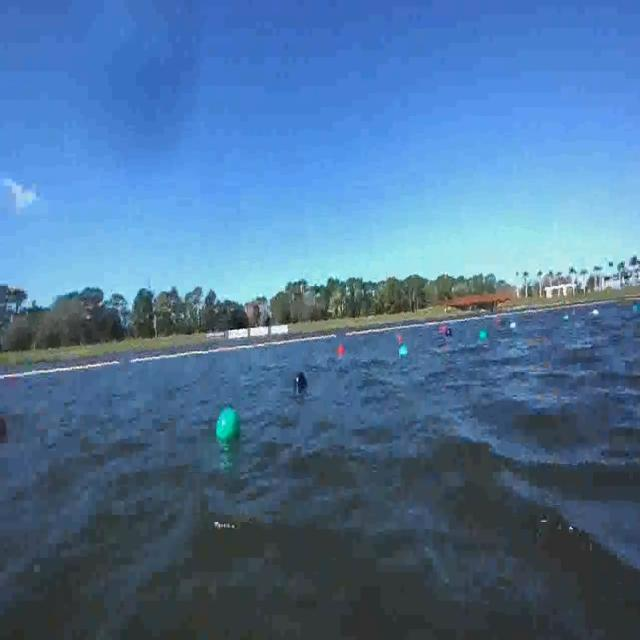black-buoy: (294, 369, 308, 390)
green-buoy: (216, 408, 240, 442), (399, 344, 407, 358), (481, 328, 488, 339)
red-buoy: (339, 346, 346, 356)
